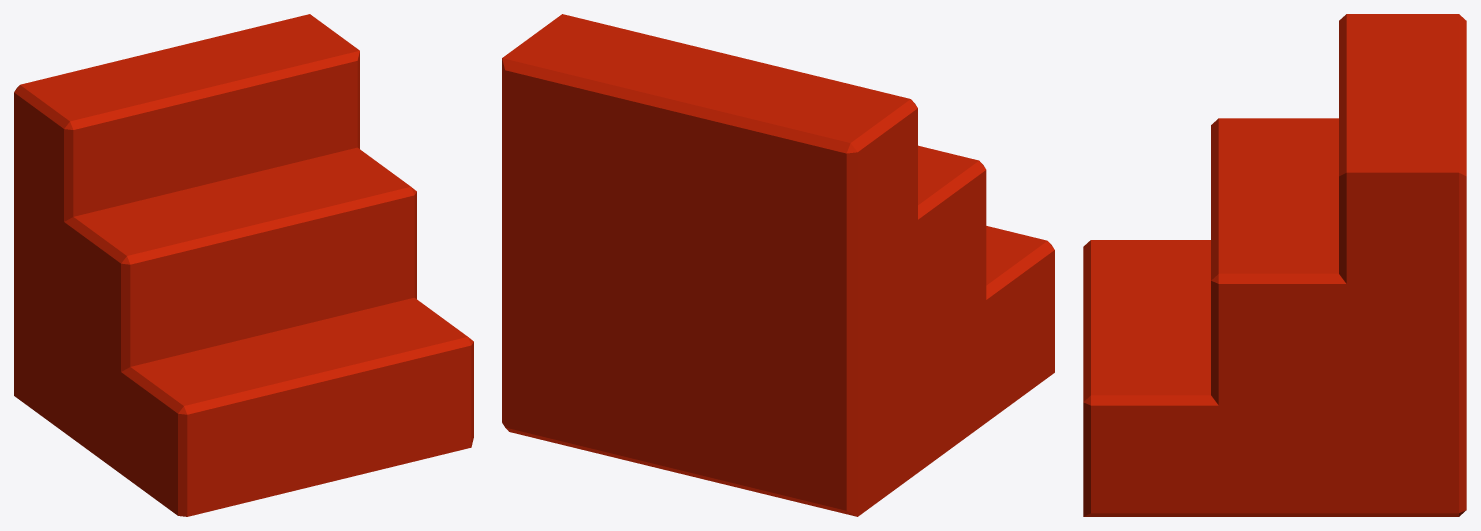
Rendered from Step01D.obj.
3 renders of one model, left to right at view 1: azimuth 30°, elevation 25°; view 2: azimuth 150°, elevation 25°; view 3: azimuth 270°, elevation 25°, orthographic. The views are drawn at different scales.
Visible parts, largest first — view 1: Steps01_Cube.031; view 2: Steps01_Cube.031; view 3: Steps01_Cube.031.
Boxes of the visible parts, box(x1,y1,x2,y2) form: Steps01_Cube.031: box(14, 14, 473, 516); Steps01_Cube.031: box(502, 14, 1054, 516); Steps01_Cube.031: box(1083, 14, 1466, 516).
Size of the model in its own units: 2 by 2 by 2.
